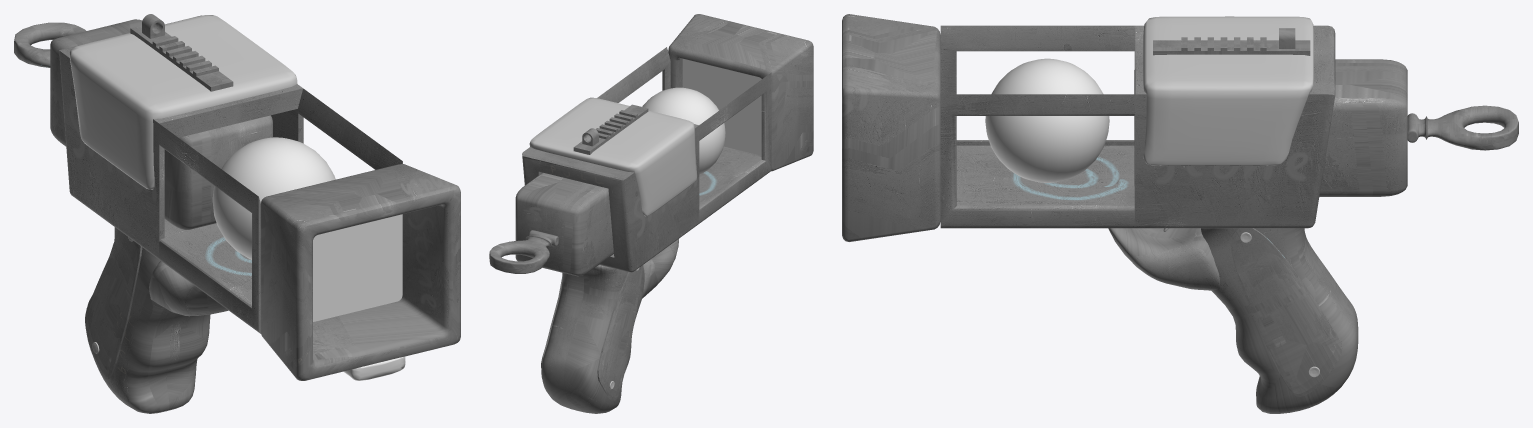
Rendered from shotgun design 3.fbx.
The picture shows the model from 3 angles, left to right: view 1: azimuth 30°, elevation 25°; view 2: azimuth 150°, elevation 25°; view 3: azimuth 270°, elevation 25°; orthographic projection. The views are drawn at different scales.
Visible parts, largest first — view 1: Cube.002, Cube, Cube.006, handel hp.001, Cube.003, Cube.001, Sphere, Cube.004, Cube.007, handel hp.002, trekker hp, Cube.009; view 2: Cube, Cube.002, Cube.006, handel hp.001, Cube.001, Cube.003, Cube.004, Sphere, trekker hp, Cube.007, handel hp.002; view 3: Cube, Cube.006, Cube.002, Cube.001, handel hp.001, Sphere, Cube.004, handel hp.002, trekker hp, Cube.007.
Boxes of the visible parts, left/top/right/bottom form: Cube.002: left=260, top=164, right=460, bottom=380; Cube: left=59, top=15, right=402, bottom=333; Cube.006: left=69, top=15, right=297, bottom=189; handel hp.001: left=86, top=227, right=210, bottom=413; Cube.003: left=313, top=214, right=402, bottom=321; Cube.001: left=50, top=19, right=272, bottom=229; Sphere: left=212, top=137, right=335, bottom=259; Cube.004: left=85, top=230, right=142, bottom=379; Cube.007: left=130, top=14, right=233, bottom=91; handel hp.002: left=149, top=261, right=228, bottom=316; trekker hp: left=14, top=22, right=85, bottom=67; Cube.009: left=343, top=356, right=405, bottom=380; Cube: left=522, top=47, right=771, bottom=272; Cube.002: left=668, top=14, right=813, bottom=171; Cube.006: left=529, top=97, right=696, bottom=216; handel hp.001: left=541, top=265, right=644, bottom=413; Cube.001: left=515, top=172, right=613, bottom=276; Cube.003: left=682, top=59, right=761, bottom=155; Cube.004: left=541, top=266, right=641, bottom=400; Sphere: left=642, top=87, right=725, bottom=174; trekker hp: left=489, top=230, right=558, bottom=273; Cube.007: left=573, top=104, right=648, bottom=154; handel hp.002: left=642, top=239, right=678, bottom=298; Cube: left=940, top=25, right=1335, bottom=228; Cube.006: left=1143, top=16, right=1313, bottom=165; Cube.002: left=842, top=14, right=940, bottom=241; Cube.001: left=1134, top=59, right=1407, bottom=196; handel hp.001: left=1201, top=228, right=1358, bottom=413; Sphere: left=985, top=58, right=1109, bottom=182; Cube.004: left=1230, top=228, right=1342, bottom=396; handel hp.002: left=1108, top=228, right=1220, bottom=290; trekker hp: left=1407, top=105, right=1518, bottom=150; Cube.007: left=1153, top=28, right=1310, bottom=55.
Bounding box in the file's own units: 371 × 836 × 1362.
